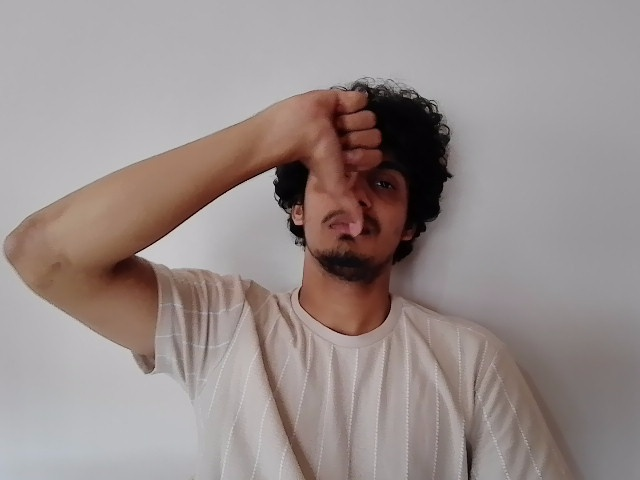drink: (283, 90, 419, 265)
